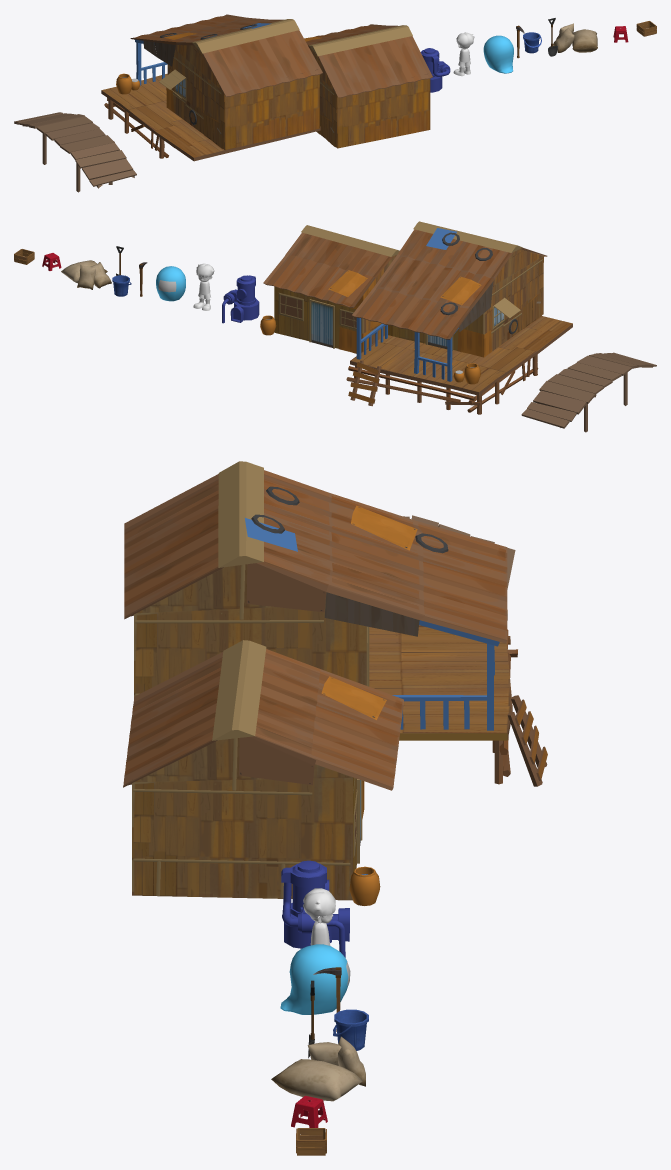
Rendered from Assets.fbx.
The picture shows the model from 3 angles, top to bottom: view 1: azimuth 30°, elevation 25°; view 2: azimuth 150°, elevation 25°; view 3: azimuth 270°, elevation 25°; orthographic projection. The views are drawn at different scales.
Visible parts, largest first — view 1: SM_MainHouse, SM_House2, Tuong_prob__1__pCube1, body_AM_enemy1, SM_TowerA10, SM_fertilizer3, SM_Waterbucket_1, SM_fertilizer2; view 2: SM_MainHouse, SM_House2, Tuong_prob__1__pCube1, SM_TowerA10, body_AM_enemy1, SM_fertilizer, SM_fertilizer3, SM_Waterbucket_1; view 3: SM_MainHouse, SM_House2, SM_TowerA10, body_AM_enemy1, SM_fertilizer3, SM_Waterbucket_1.
Boxes of the visible parts, left/top/right/bottom form: SM_MainHouse: left=101, top=14, right=322, bottom=161; SM_House2: left=304, top=24, right=432, bottom=148; Tuong_prob__1__pCube1: left=14, top=112, right=136, bottom=192; body_AM_enemy1: left=483, top=35, right=513, bottom=73; SM_TowerA10: left=420, top=48, right=450, bottom=92; SM_fertilizer3: left=572, top=29, right=597, bottom=52; SM_Waterbucket_1: left=523, top=32, right=541, bottom=53; SM_fertilizer2: left=553, top=27, right=574, bottom=52; SM_MainHouse: left=346, top=221, right=572, bottom=414; SM_House2: left=260, top=225, right=399, bottom=353; Tuong_prob__1__pCube1: left=521, top=352, right=656, bottom=432; SM_TowerA10: left=222, top=275, right=259, bottom=323; body_AM_enemy1: left=156, top=266, right=185, bottom=301; SM_fertilizer: left=77, top=264, right=96, bottom=289; SM_fertilizer3: left=61, top=260, right=107, bottom=283; SM_Waterbucket_1: left=112, top=275, right=131, bottom=296; SM_MainHouse: left=124, top=461, right=547, bottom=786; SM_House2: left=123, top=640, right=403, bottom=905; SM_TowerA10: left=281, top=860, right=349, bottom=957; body_AM_enemy1: left=280, top=944, right=348, bottom=1014; SM_fertilizer3: left=271, top=1059, right=362, bottom=1101; SM_Waterbucket_1: left=333, top=1009, right=368, bottom=1050.
Bounding box in the file's own units: 2393 × 482 × 740.
